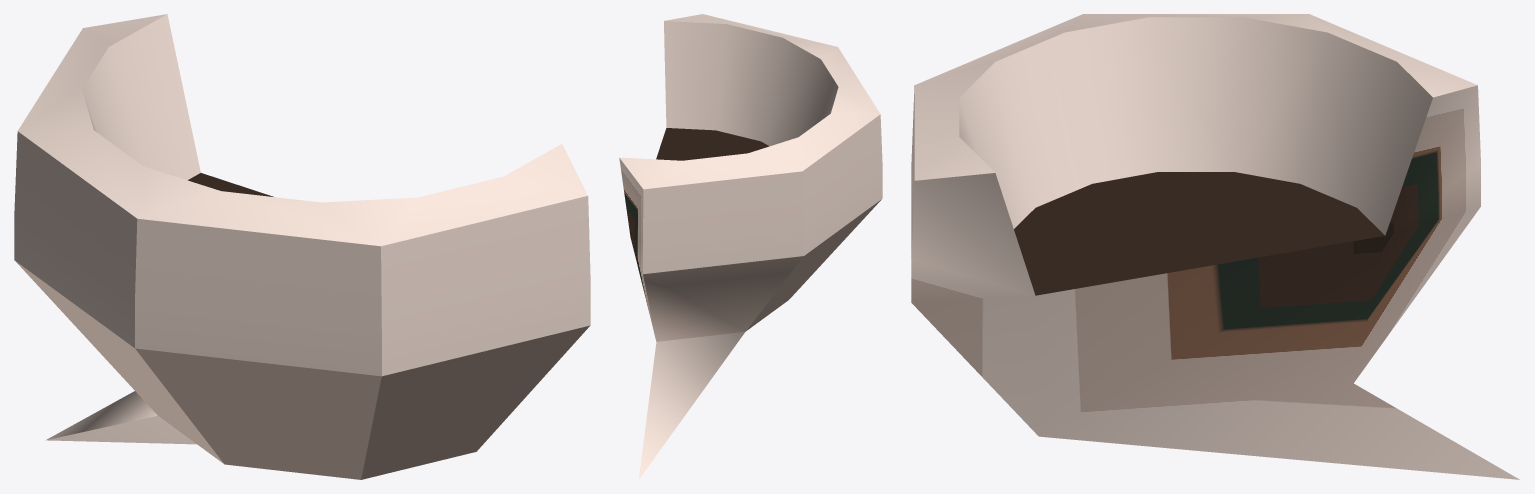
The model's file is PROP_Vase_6.fbx.
3 views of the same model, side by side, from view 1: azimuth 30°, elevation 25°; view 2: azimuth 150°, elevation 25°; view 3: azimuth 270°, elevation 25° (orthographic). The views are drawn at different scales.
Parts seen in each view (by area): view 1: Vase_6; view 2: Vase_6; view 3: Vase_6.
Boxes of the visible parts, <box> form: Vase_6: <box>14,14,590,479</box>; Vase_6: <box>619,14,882,479</box>; Vase_6: <box>911,14,1519,479</box>.
Bounding box in the file's own units: 9.73 × 10.77 × 14.24.
